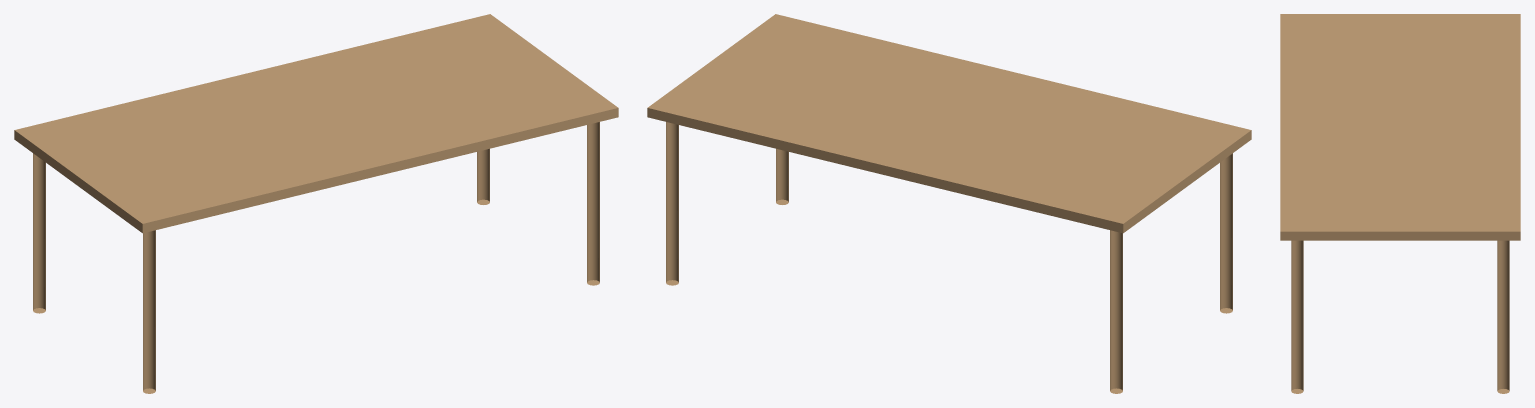
The model's file is dining_table_08.glb.
3 renders of one model, left to right at view 1: azimuth 30°, elevation 25°; view 2: azimuth 150°, elevation 25°; view 3: azimuth 270°, elevation 25°, orthographic. The views are drawn at different scales.
Size of the model in its own units: 2.1 by 0.75 by 0.98.
